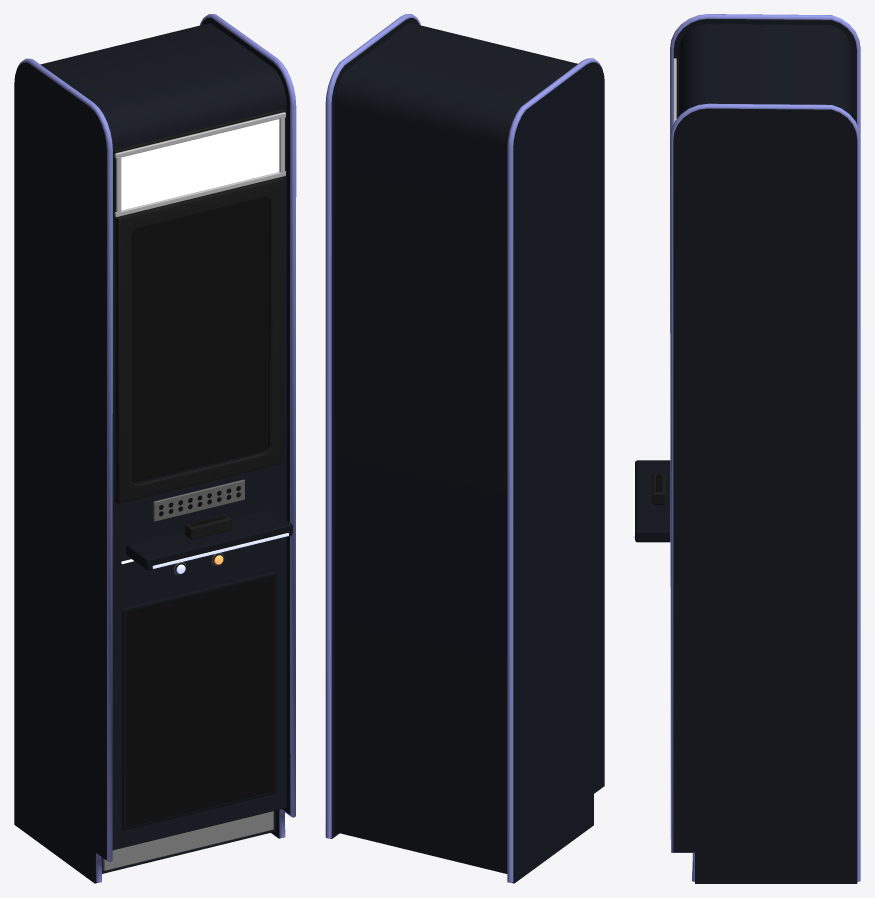
Rendered from mach-angry.glb.
The picture shows the model from 3 angles, left to right: view 1: azimuth 30°, elevation 25°; view 2: azimuth 150°, elevation 25°; view 3: azimuth 270°, elevation 25°; orthographic projection.
Visible parts, largest first — view 1: side_art_l, body, screen, front_art, glass, controls, trim, marquee, metal, speaker; view 2: body, side_art_l, trim; view 3: side_art_r, body, trim, controls.
Boxes of the visible parts, left/top/right/bottom form: side_art_l: left=14, top=62, right=106, bottom=883; body: left=27, top=18, right=290, bottom=883; screen: left=131, top=198, right=267, bottom=482; front_art: left=126, top=576, right=274, bottom=827; glass: left=132, top=198, right=268, bottom=483; controls: left=113, top=109, right=292, bottom=570; trim: left=17, top=14, right=296, bottom=882; marquee: left=121, top=119, right=279, bottom=210; metal: left=103, top=112, right=285, bottom=870; speaker: left=153, top=479, right=244, bottom=521; body: left=330, top=18, right=591, bottom=883; side_art_l: left=514, top=62, right=604, bottom=883; trim: left=325, top=14, right=602, bottom=882; side_art_r: left=673, top=108, right=857, bottom=883; body: left=673, top=19, right=856, bottom=126; trim: left=670, top=14, right=860, bottom=881; controls: left=633, top=56, right=678, bottom=542.
Bounding box in the file's own units: 0.503 × 1.96 × 0.5185.
